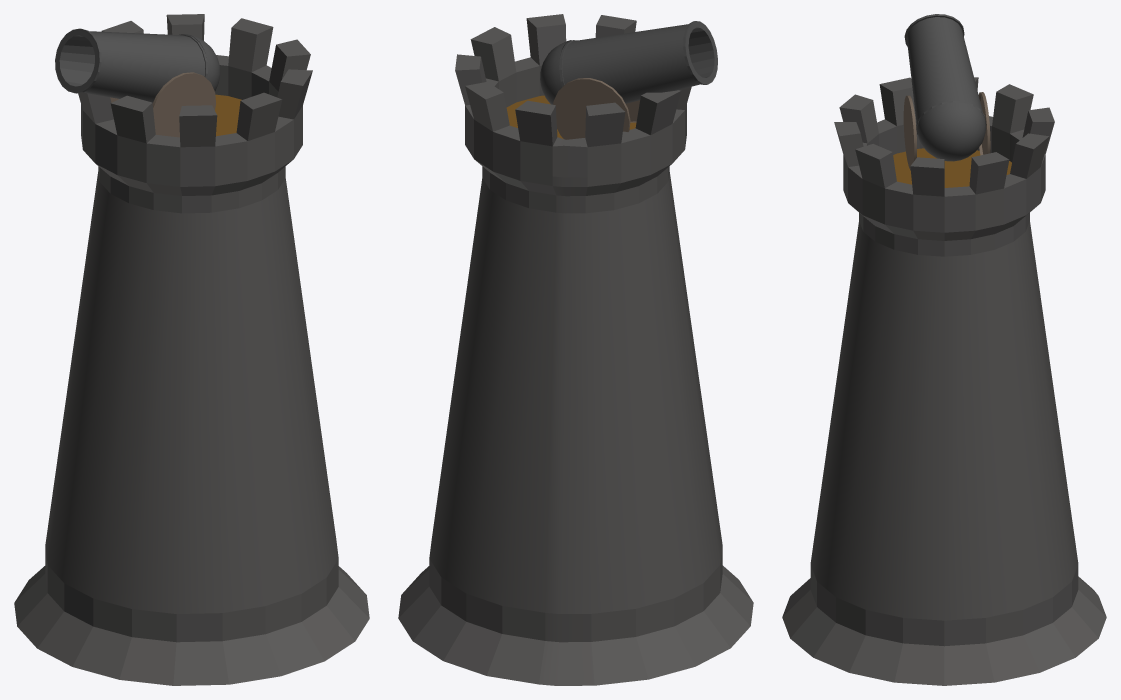
File: cannon_tower.fbx
The picture shows the model from 3 angles, left to right: view 1: azimuth 30°, elevation 25°; view 2: azimuth 150°, elevation 25°; view 3: azimuth 270°, elevation 25°; orthographic projection. The views are drawn at different scales.
Parts seen in each view (by area): view 1: tower, pCylinder4; view 2: tower, pCylinder4; view 3: tower, pCylinder4.
Part boxes in pixels (x1,y1,x2,y2): tower: [14, 14, 369, 685]; pCylinder4: [55, 28, 220, 137]; tower: [398, 14, 753, 685]; pCylinder4: [540, 21, 717, 139]; tower: [782, 77, 1106, 685]; pCylinder4: [903, 14, 990, 169].
Size of the model in its own units: 7.89 by 14.87 by 7.89.
